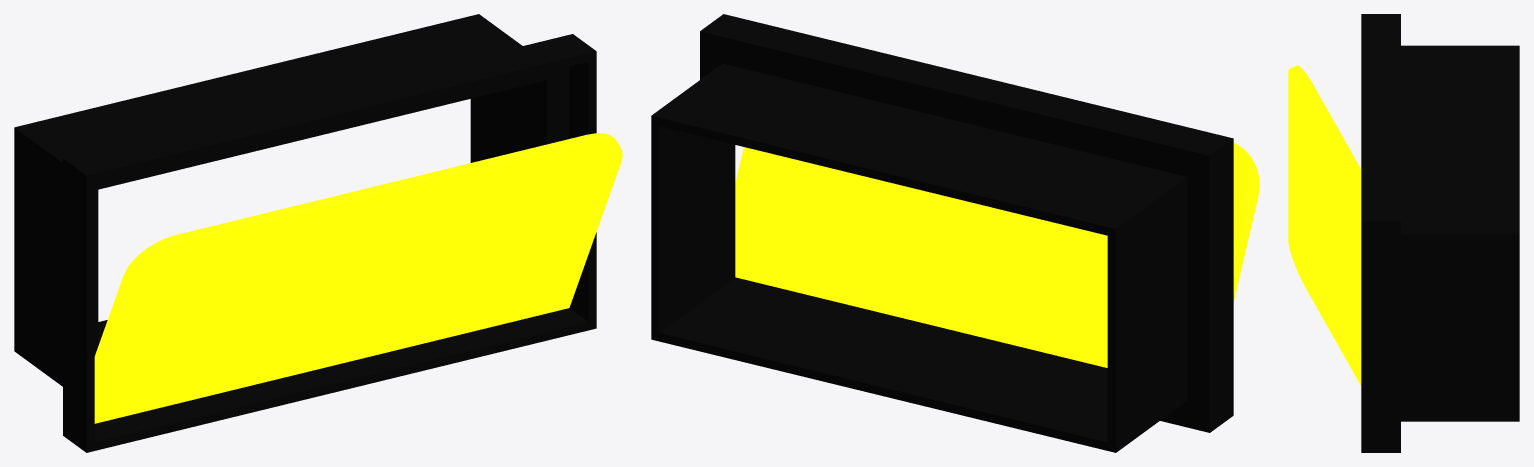
The model's file is klape.glb.
3 renders of one model, left to right at view 1: azimuth 30°, elevation 25°; view 2: azimuth 150°, elevation 25°; view 3: azimuth 270°, elevation 25°, orthographic. The views are drawn at different scales.
Parts seen in each view (by area): view 1: KLAPE; view 2: KLAPE; view 3: KLAPE.
Boxes of the visible parts, x1=… form: KLAPE: x1=14, y1=14, x2=622, y2=452; KLAPE: x1=651, y1=14, x2=1259, y2=452; KLAPE: x1=1288, y1=14, x2=1519, y2=452.
Size of the model in its own units: 0.062 by 0.0322 by 0.0292.
